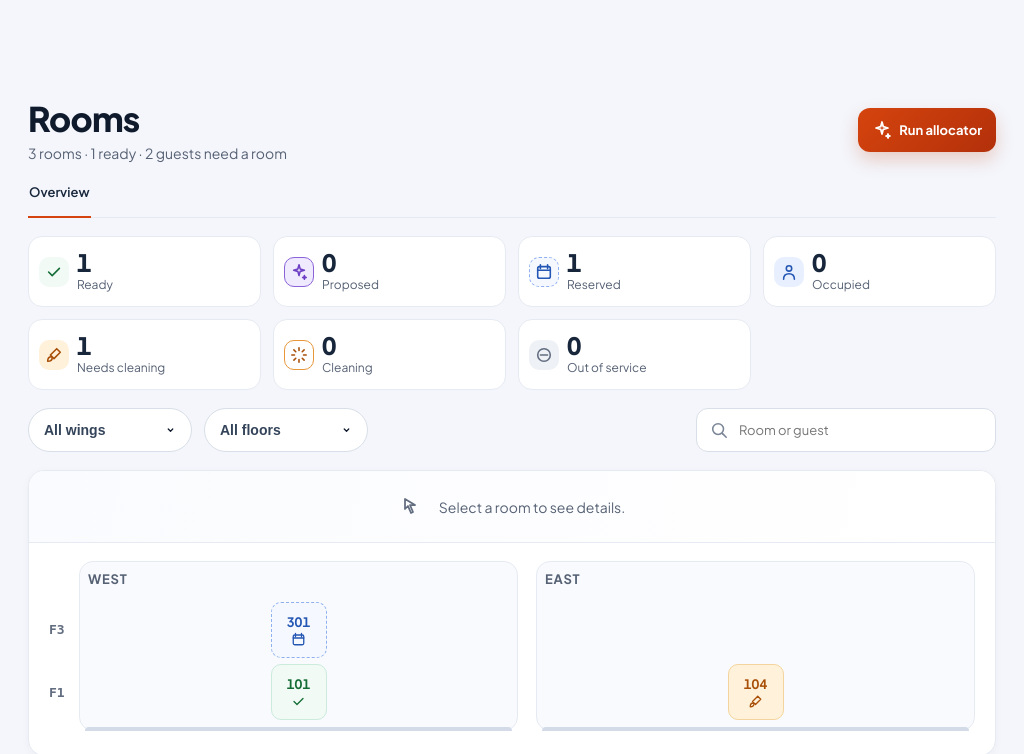
it: RoomsScreen › shows the building, then a room in the inspector with Move guest
The width and height of the screenshot is (1024, 754).
Expected: the text "3 rooms · 1 ready · 2 guests need a room" is shown, [28, 142, 287, 162]
Expected: the text "Select a room to see details." is shown, [439, 496, 625, 516]
Click the button named "Room 301, Reserved" at (298, 630), box [270, 602, 326, 658]
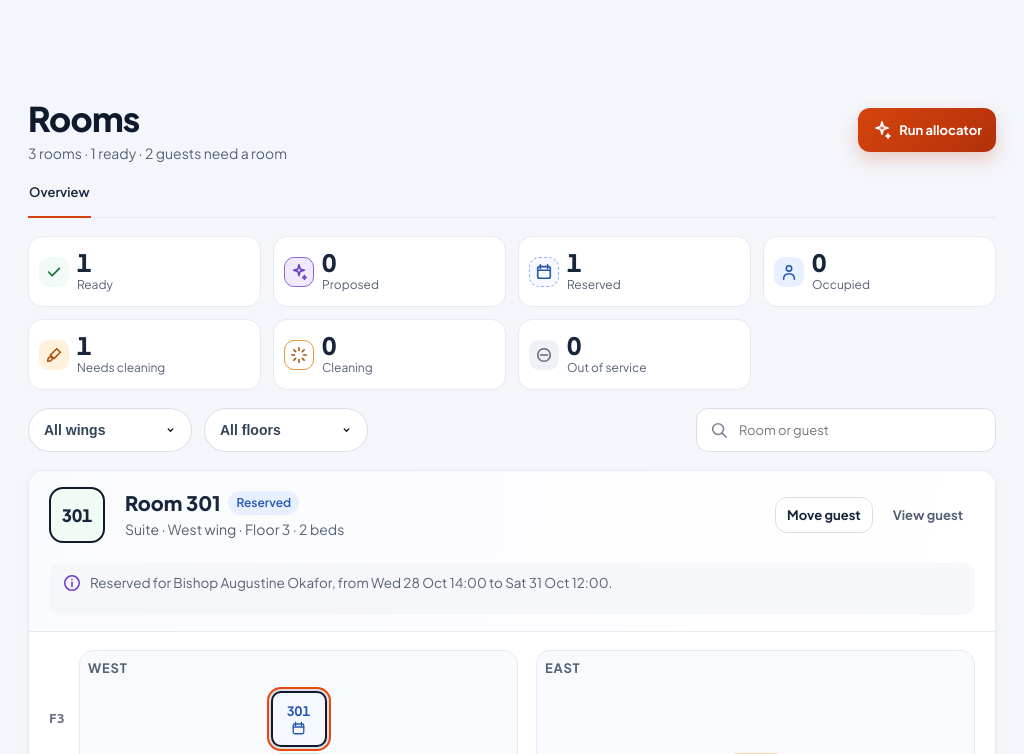
Result: the heading "Room 301" is shown at [125, 493, 220, 513]
Result: the text "Reserved for Bishop Augustine Okafor, from" is shown at [90, 574, 612, 591]
Result: the button "Move guest" is shown at [775, 497, 873, 533]
